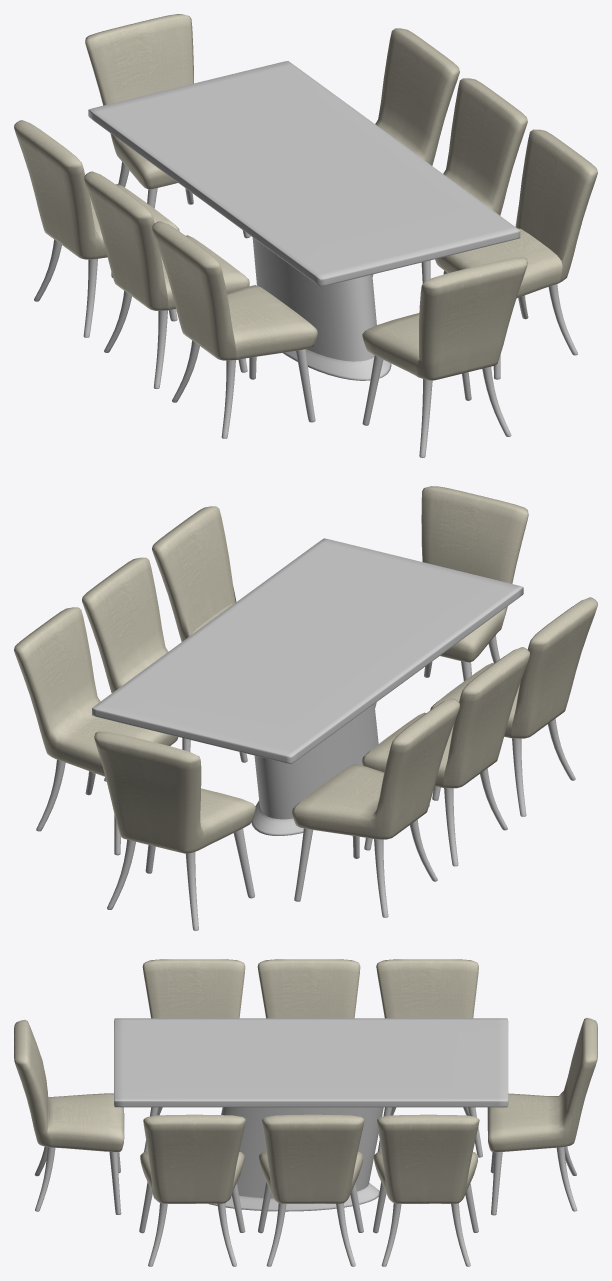
Rendered from dining table1.fbx.
The picture shows the model from 3 angles, top to bottom: view 1: azimuth 30°, elevation 25°; view 2: azimuth 150°, elevation 25°; view 3: azimuth 270°, elevation 25°; orthographic projection. The views are drawn at different scales.
Visible parts, largest first — view 1: mesajantar, cadeirajantar, cadeirajantar.006, cadeirajantar.001, cadeirajantar.007, cadeirajantar.005, cadeirajantar.004, cadeirajantar.002, cadeirajantar.003; view 2: mesajantar, cadeirajantar.007, cadeirajantar.004, cadeirajantar.003, cadeirajantar, cadeirajantar.005, cadeirajantar.006, cadeirajantar.002, cadeirajantar.001; view 3: mesajantar, cadeirajantar.001, cadeirajantar.002, cadeirajantar.003, cadeirajantar, cadeirajantar.007, cadeirajantar.004, cadeirajantar.006, cadeirajantar.005.
Part boxes in pixels (bbox=[...]): mesajantar: bbox=[88, 61, 520, 380]; cadeirajantar: bbox=[362, 257, 527, 457]; cadeirajantar.006: bbox=[152, 221, 317, 438]; cadeirajantar.001: bbox=[435, 129, 597, 379]; cadeirajantar.007: bbox=[85, 14, 250, 238]; cadeirajantar.005: bbox=[84, 171, 249, 388]; cadeirajantar.004: bbox=[14, 120, 179, 337]; cadeirajantar.002: bbox=[372, 78, 527, 283]; cadeirajantar.003: bbox=[375, 28, 459, 165]; mesajantar: bbox=[92, 538, 523, 835]; cadeirajantar.007: bbox=[94, 731, 255, 930]; cadeirajantar.004: bbox=[292, 698, 459, 917]; cadeirajantar.003: bbox=[14, 607, 178, 855]; cadeirajantar: bbox=[374, 486, 528, 707]; cadeirajantar.005: bbox=[362, 647, 529, 866]; cadeirajantar.006: bbox=[430, 597, 597, 816]; cadeirajantar.002: bbox=[82, 557, 247, 781]; cadeirajantar.001: bbox=[152, 506, 236, 641]; mesajantar: bbox=[114, 1018, 508, 1211]; cadeirajantar.001: bbox=[139, 1114, 245, 1266]; cadeirajantar.002: bbox=[258, 1114, 364, 1266]; cadeirajantar.003: bbox=[373, 1114, 479, 1266]; cadeirajantar: bbox=[14, 1019, 124, 1214]; cadeirajantar.007: bbox=[487, 1018, 597, 1215]; cadeirajantar.004: bbox=[376, 959, 482, 1157]; cadeirajantar.006: bbox=[142, 959, 245, 1151]; cadeirajantar.005: bbox=[257, 959, 360, 1018].
Bounding box in the file's own units: 276 × 81.87 × 183.
